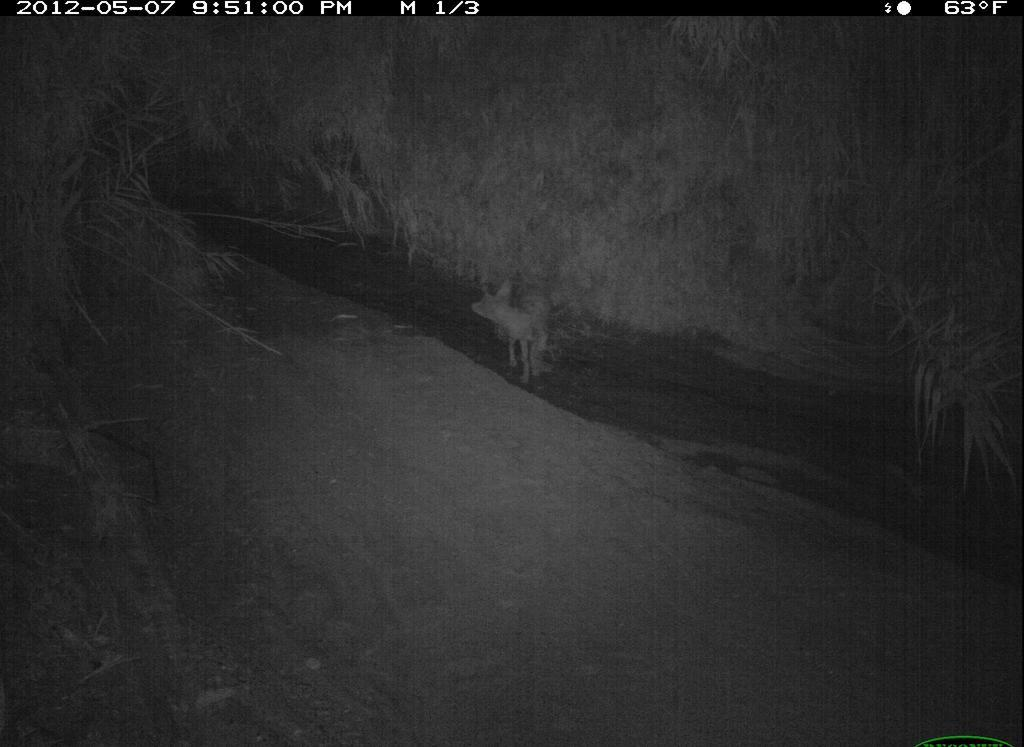coyote: (934, 545, 1024, 747)
